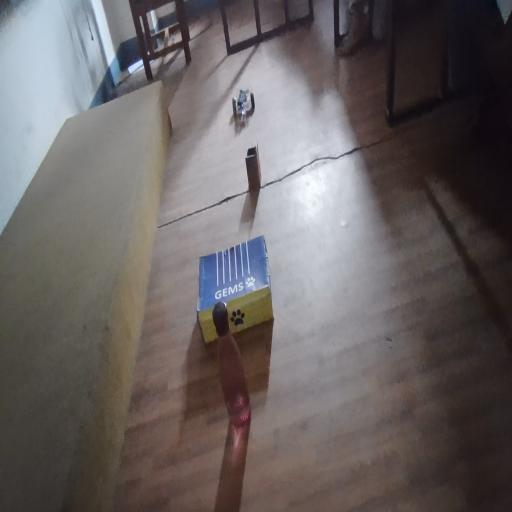Bottle: (207, 306, 258, 452)
car: (234, 80, 253, 116)
